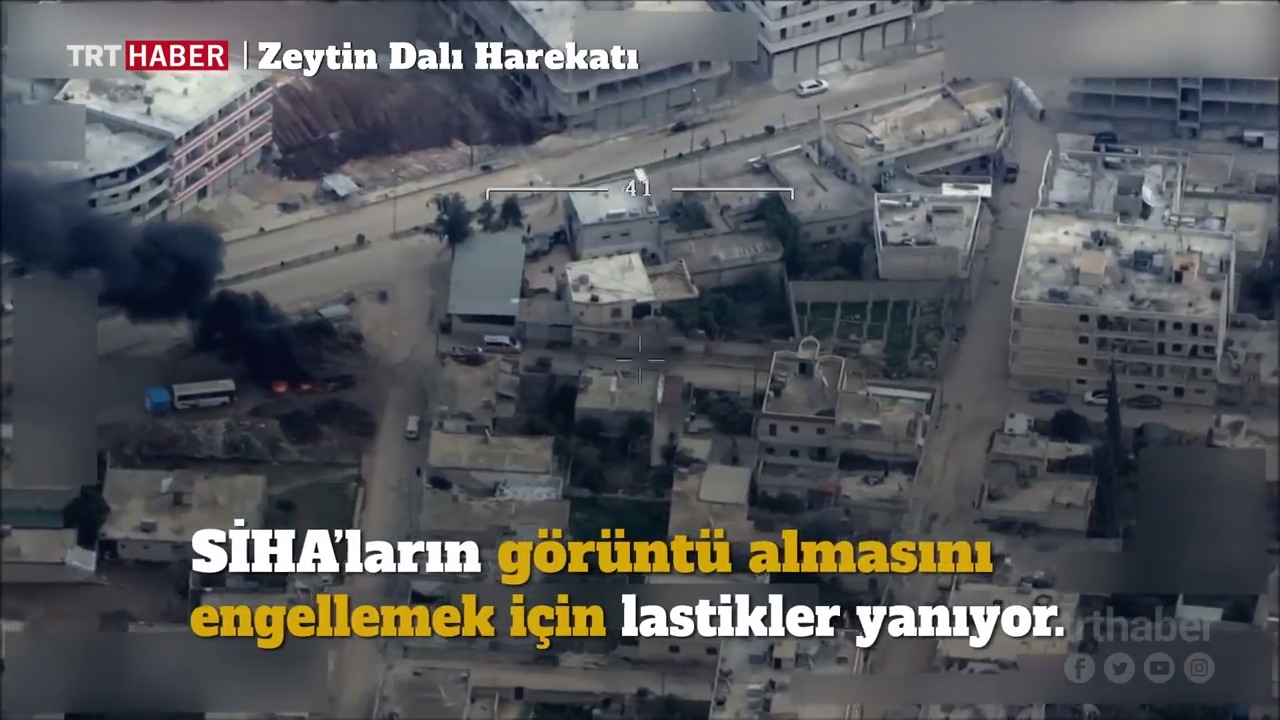arac: (170, 373, 239, 417), (781, 66, 844, 97), (473, 330, 528, 359), (999, 158, 1029, 187), (1125, 392, 1164, 413), (1084, 381, 1115, 407), (1031, 387, 1067, 406), (404, 414, 424, 439)
